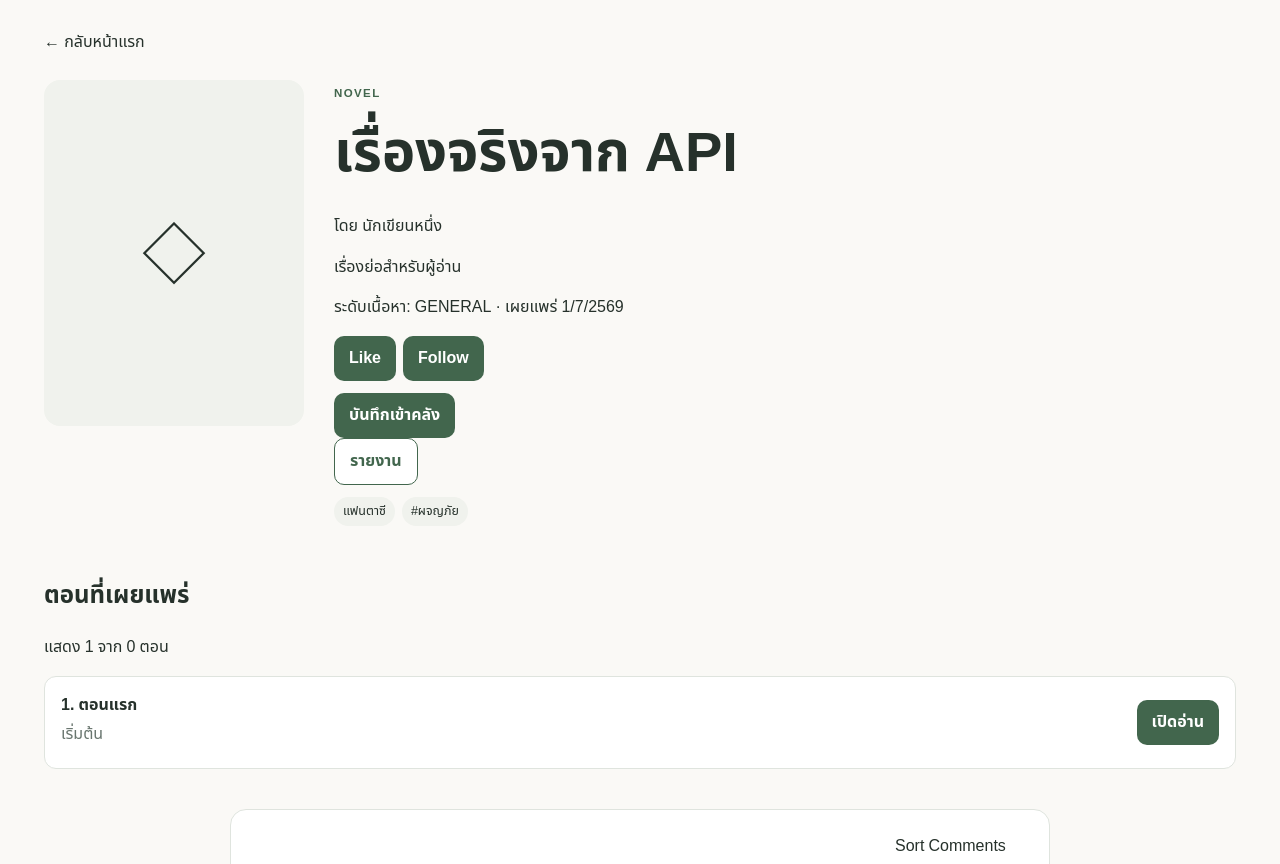
public Story Detail › reconciles Follow 404, 409, and 429 without replacing Story content
The image size is (1280, 864).
What coordinates should you click on to do the following:
click the button "Follow"
I would click on:
 (443, 359)
Its box is x1=403 y1=336 x2=484 y2=381.
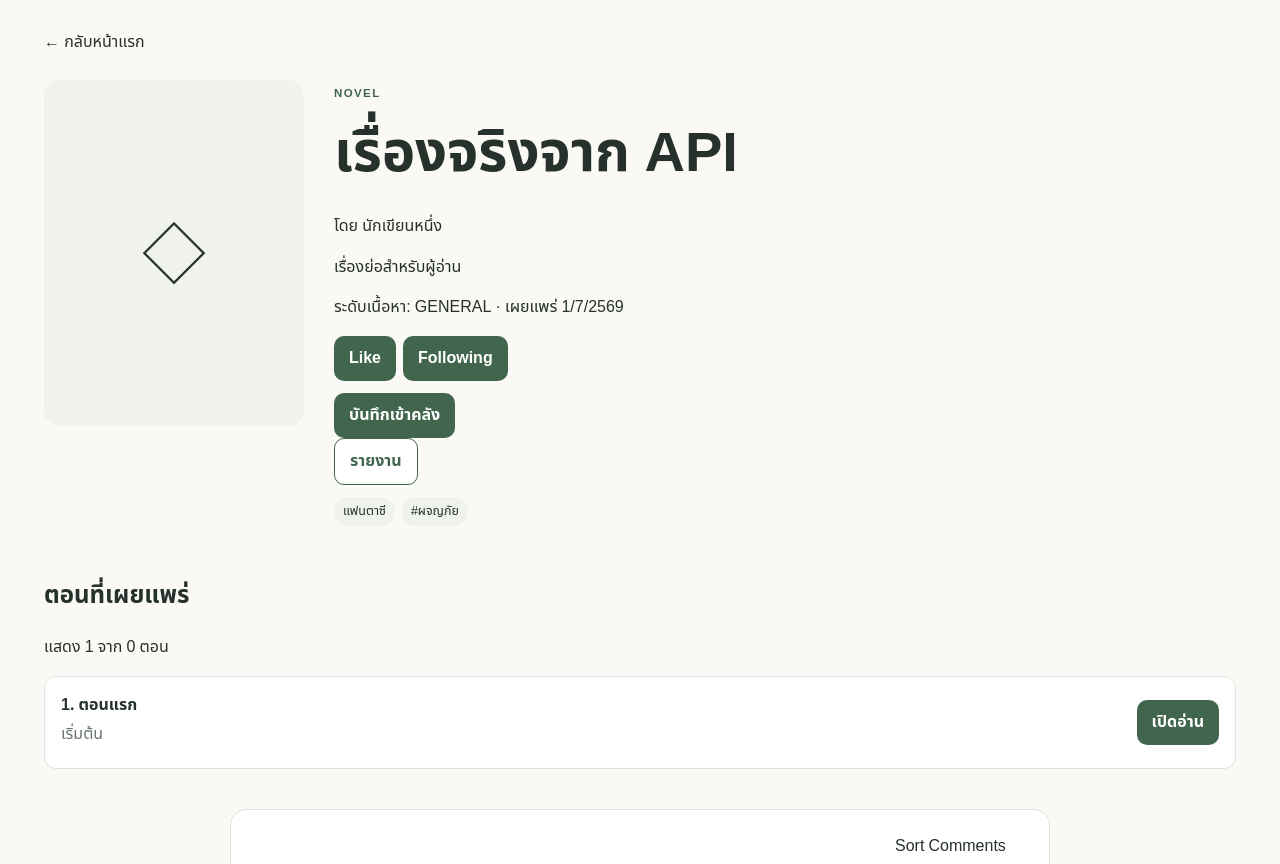
Expected: the button "Following" is pressed
What coordinates should you click on to do the following:
click the button "Following"
I would click on:
 (455, 359)
Its box is x1=403 y1=336 x2=508 y2=381.
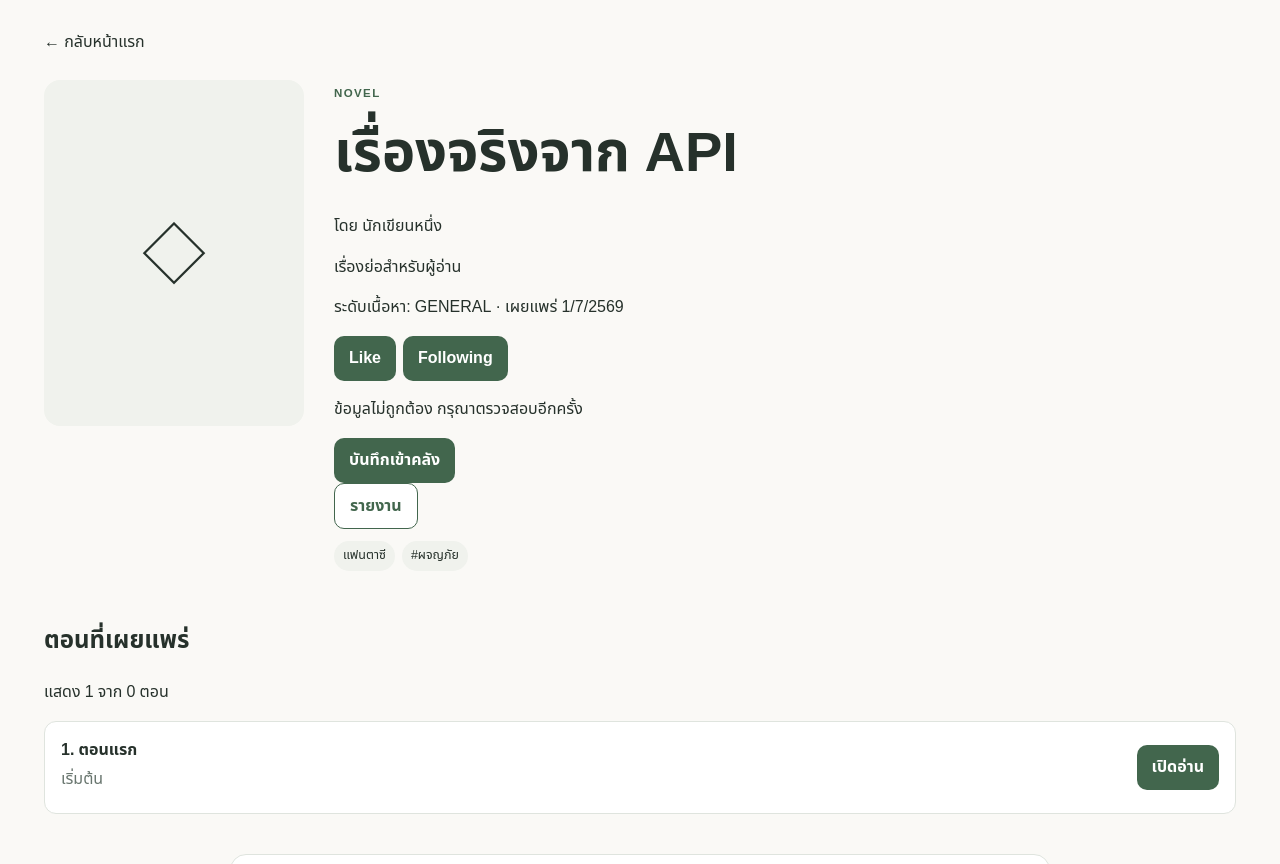
Expected: the button "Following" is shown
What coordinates should you click on to do the following:
click the button "Following"
I would click on:
 (455, 359)
Its box is x1=403 y1=336 x2=508 y2=381.
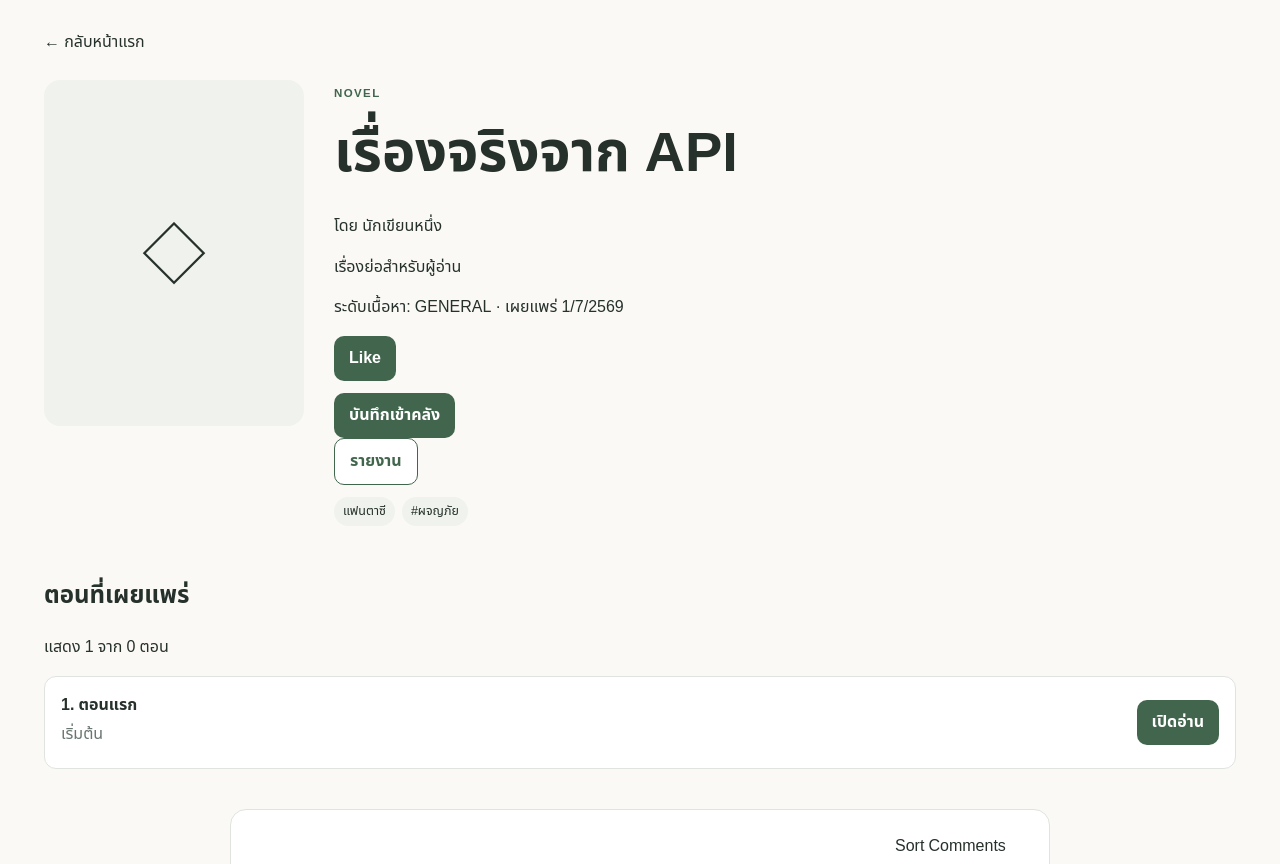
Expected: the heading "เรื่องจริงจาก API" is shown, x1=334 y1=112 x2=738 y2=196
Expected: the button "Following" is gone
